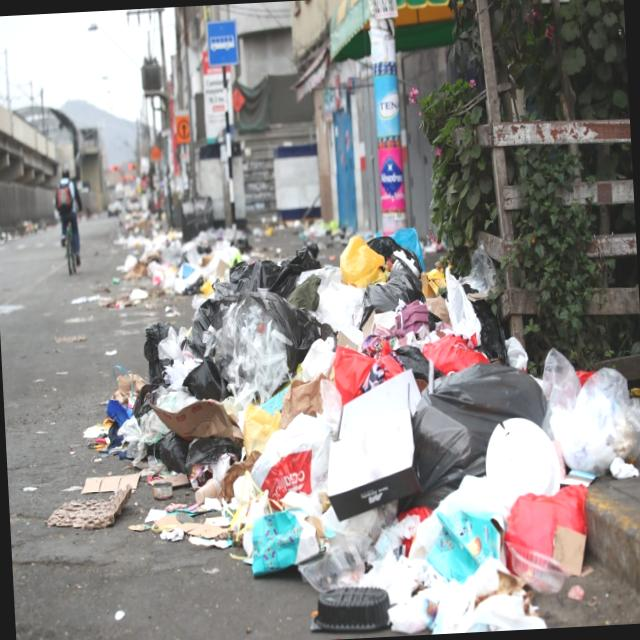garbage: (113, 218, 640, 640)
